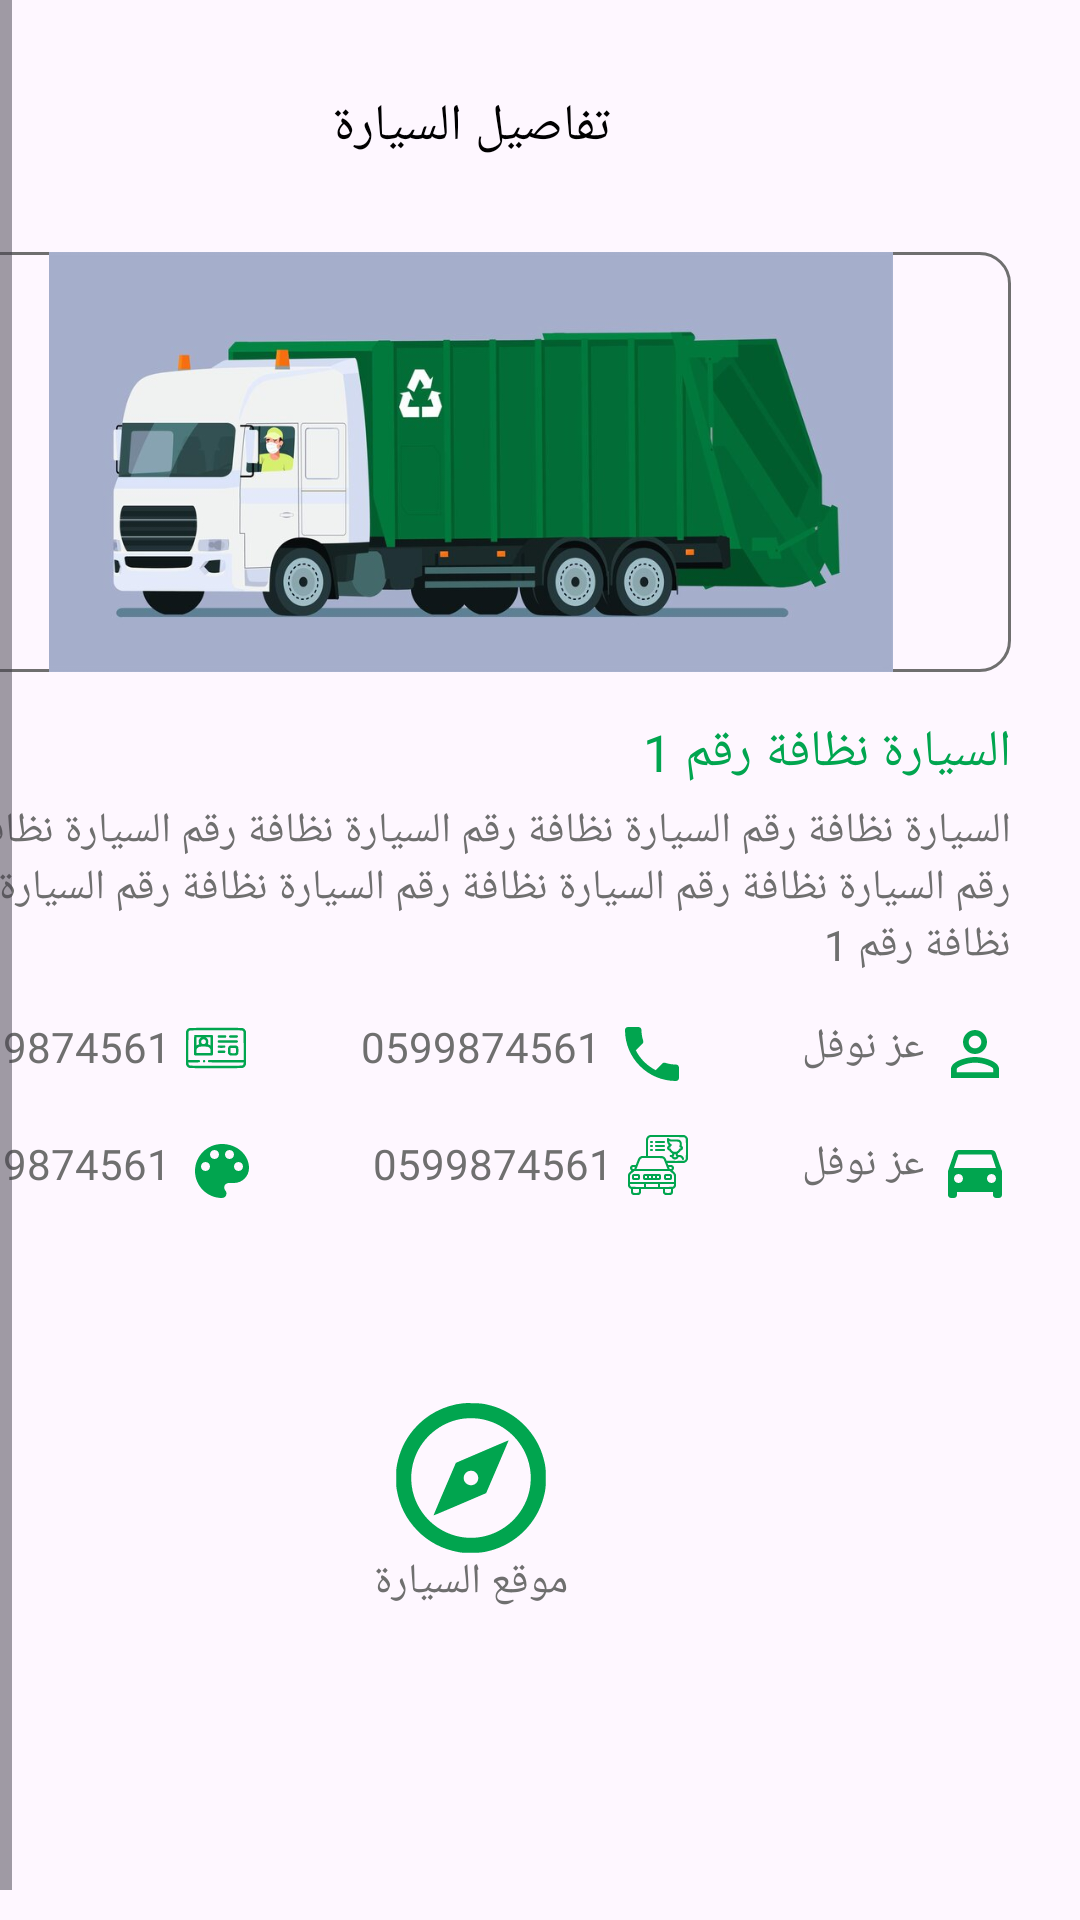

Point at icon controls on the screen. Image size 1080*1920, points as (x=x, y=y).
car: (x=975, y=1174)
compass: (x=471, y=1478)
phone: (x=652, y=1054)
user: (x=975, y=1054)
